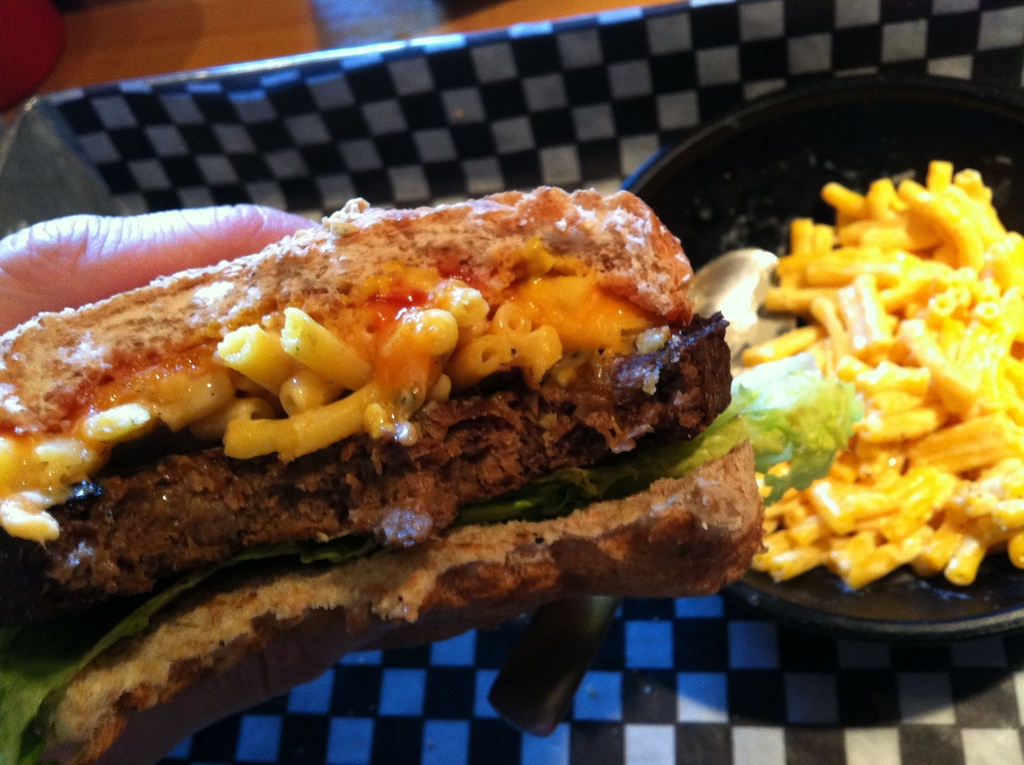Hamburger: (0, 199, 858, 764)
